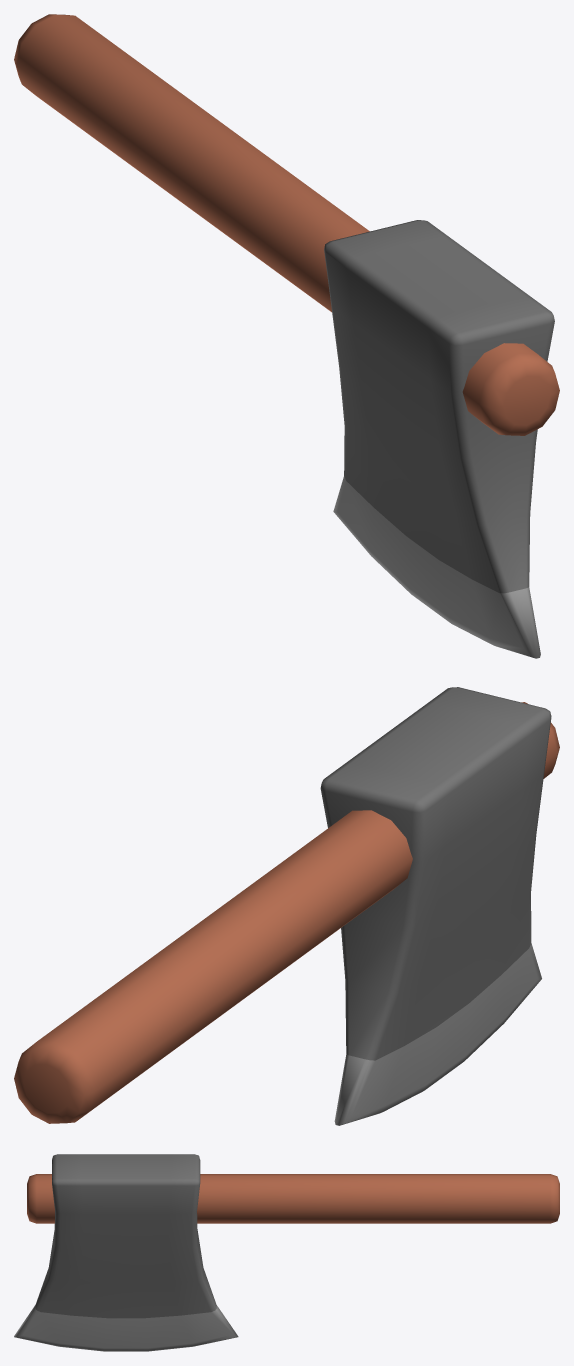
The model's file is Axe.fbx.
3 views of the same model, one above another, from view 1: azimuth 30°, elevation 25°; view 2: azimuth 150°, elevation 25°; view 3: azimuth 270°, elevation 25° (orthographic). The views are drawn at different scales.
Parts seen in each view (by area): view 1: Axe; view 2: Axe; view 3: Axe.
Boxes of the visible parts, box(x1,y1,x2,y2) form: Axe: box(14, 14, 559, 658); Axe: box(14, 687, 559, 1125); Axe: box(14, 1154, 559, 1351).
Size of the model in its own units: 89.23 by 272 by 729.
